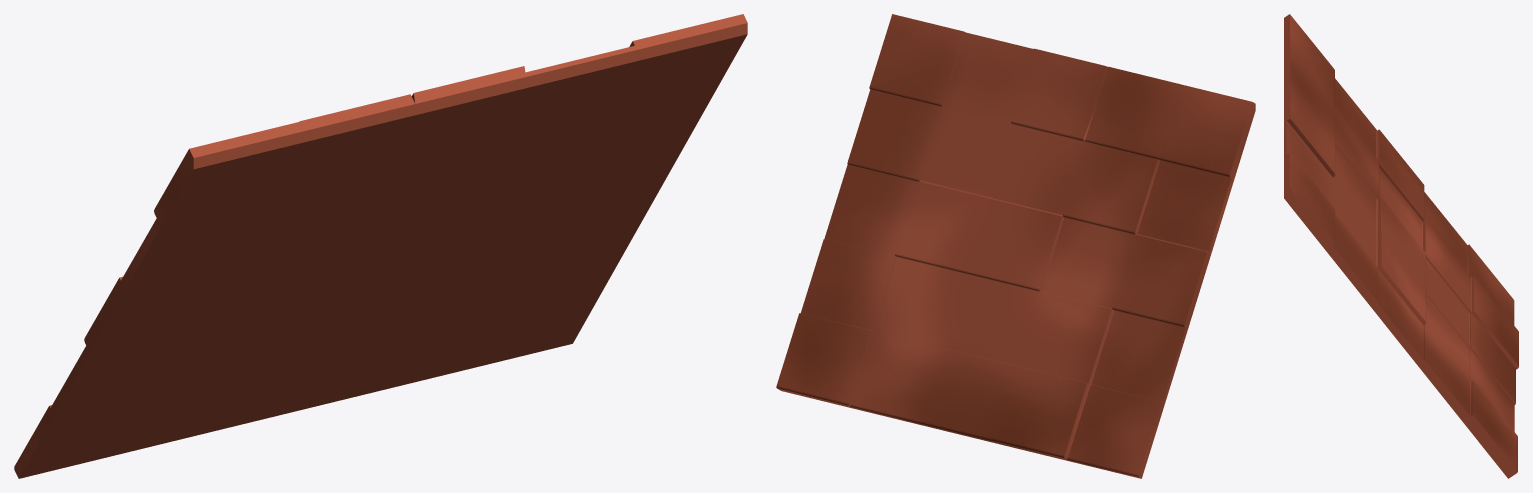
The model's file is Roof 5.fbx.
3 views of the same model, side by side, from view 1: azimuth 30°, elevation 25°; view 2: azimuth 150°, elevation 25°; view 3: azimuth 270°, elevation 25° (orthographic). The views are drawn at different scales.
Visible parts, largest first — view 1: Roof 5; view 2: Roof 5; view 3: Roof 5.
Boxes of the visible parts, x1,y1,x2,y2 form: Roof 5: (14,14,747,478); Roof 5: (776,14,1255,478); Roof 5: (1284,14,1518,478).
Bounding box in the file's own units: 359 × 282 × 205.
1 material, 1 textured.
